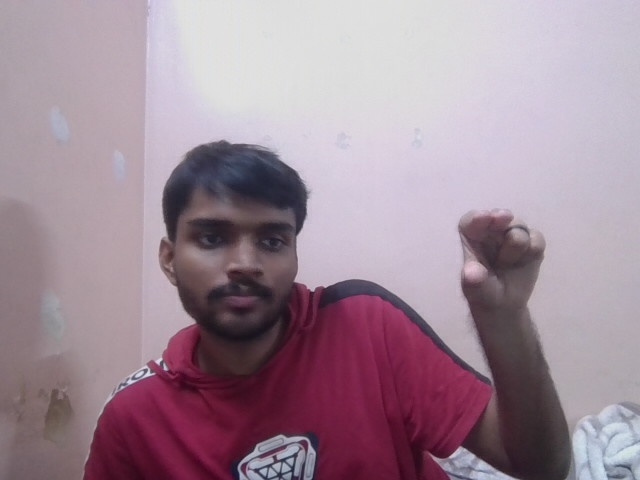No: (450, 205, 547, 313)
